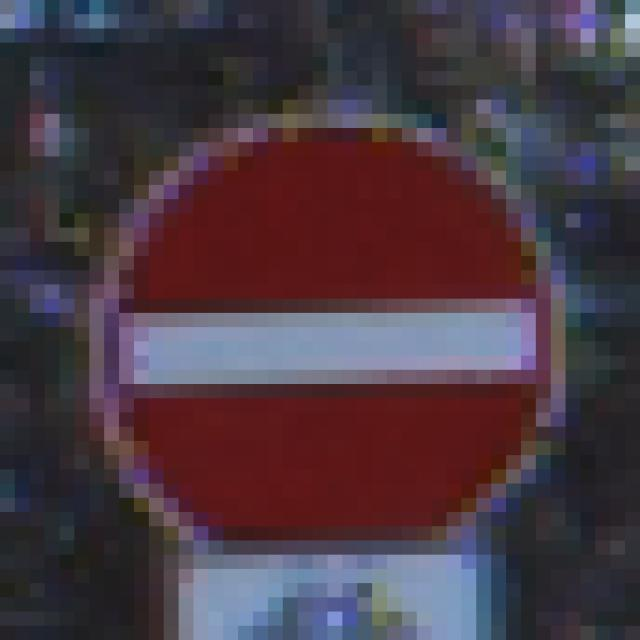No Entry: (76, 86, 567, 570)
